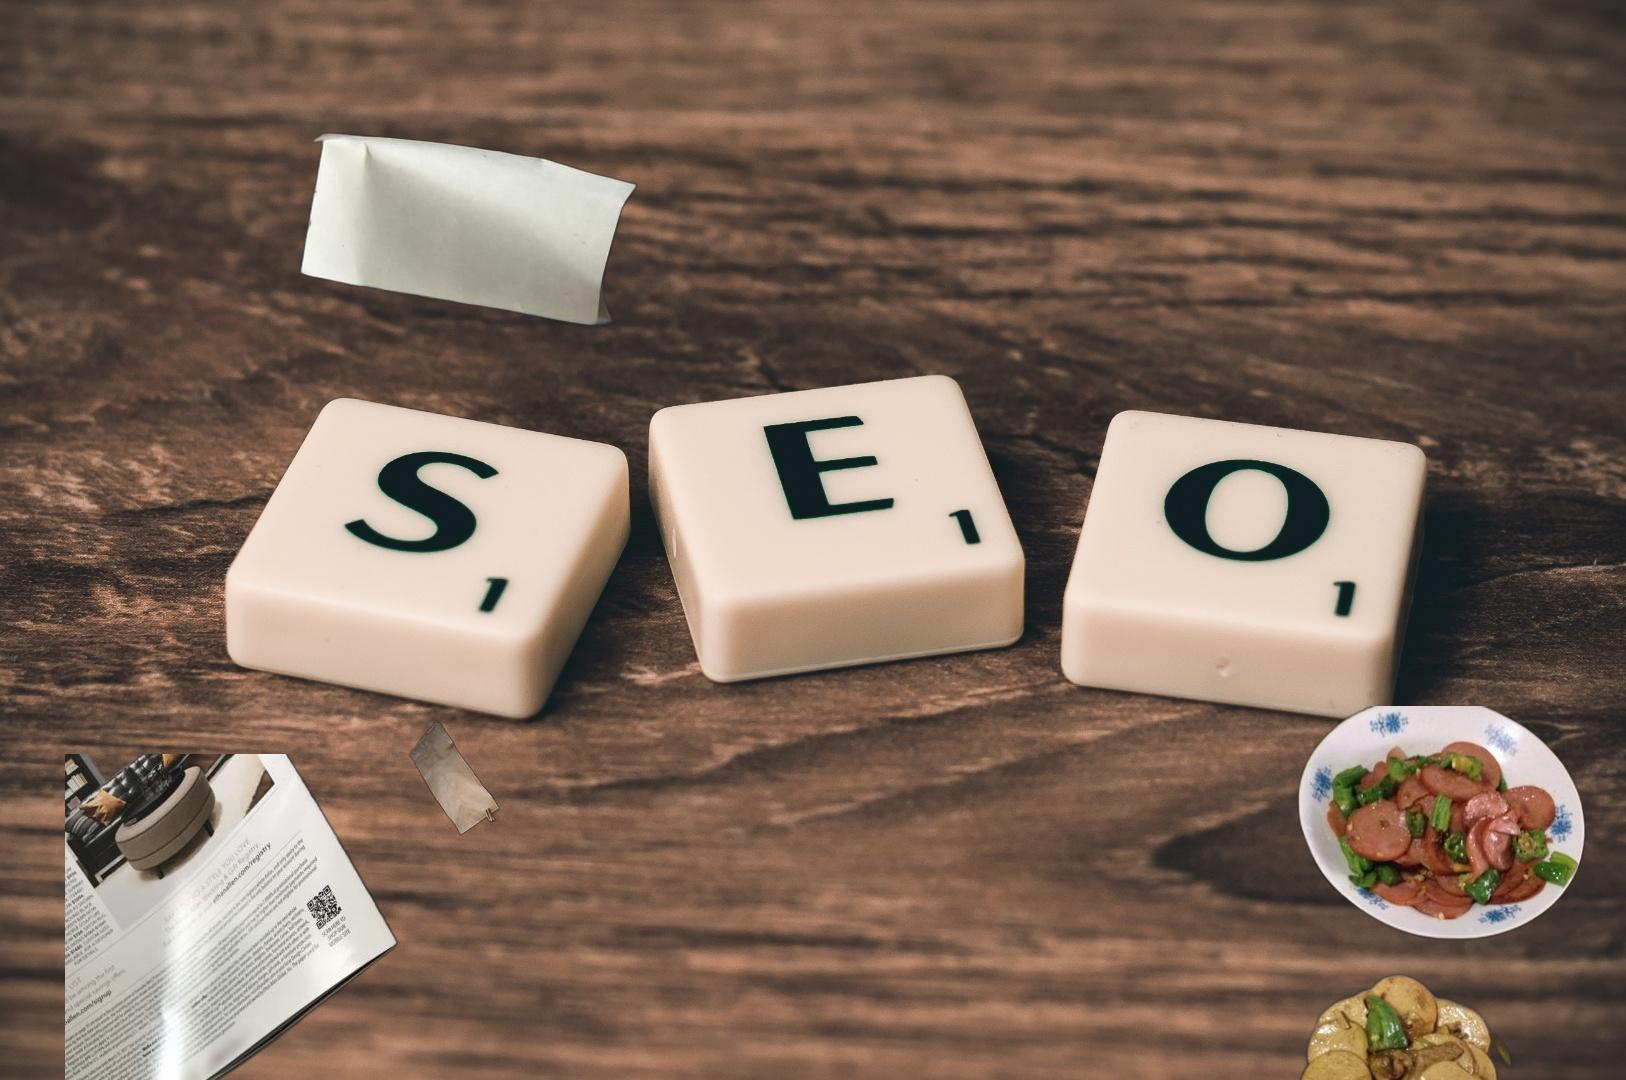biological: (1116, 706, 1590, 1080)
paper: (65, 755, 403, 1080), (295, 129, 641, 329)
paper-bag: (374, 714, 659, 850)
